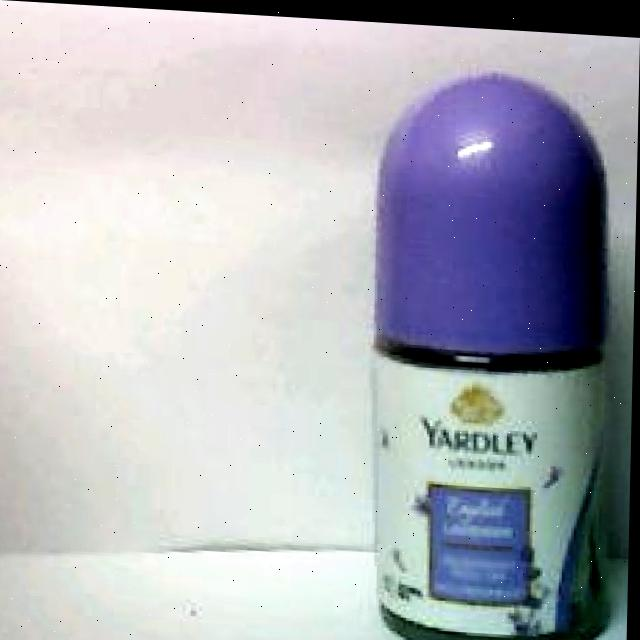yardley_rollon: (369, 66, 613, 640)
